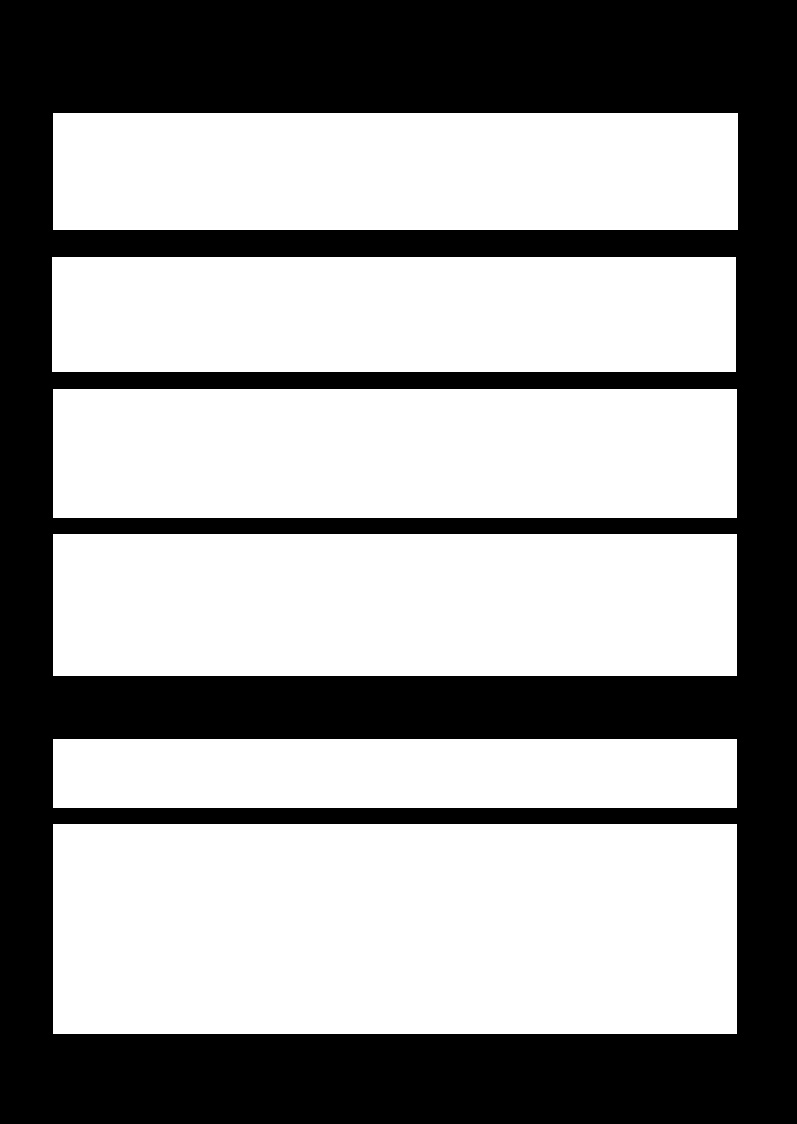table: (53, 824, 736, 1033), (53, 534, 736, 675), (53, 389, 736, 517), (53, 113, 737, 229), (52, 257, 735, 371), (53, 739, 736, 807)
